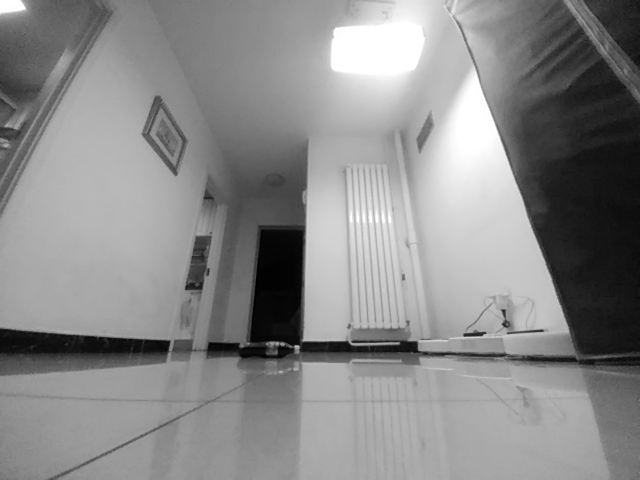others: (237, 339, 302, 357)
